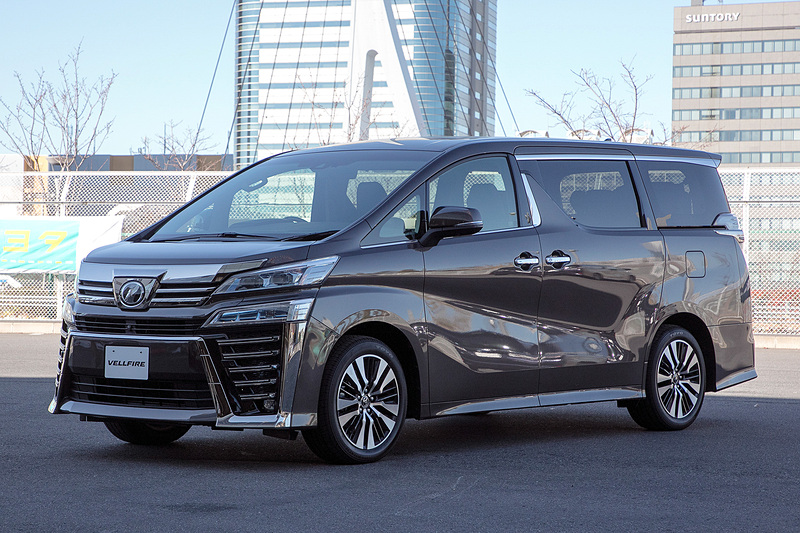van: (48, 130, 761, 464)
